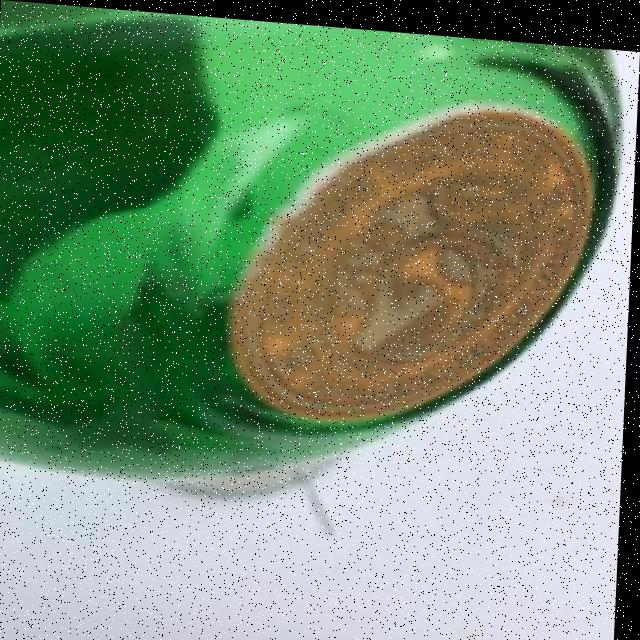glass: (0, 0, 631, 520)
